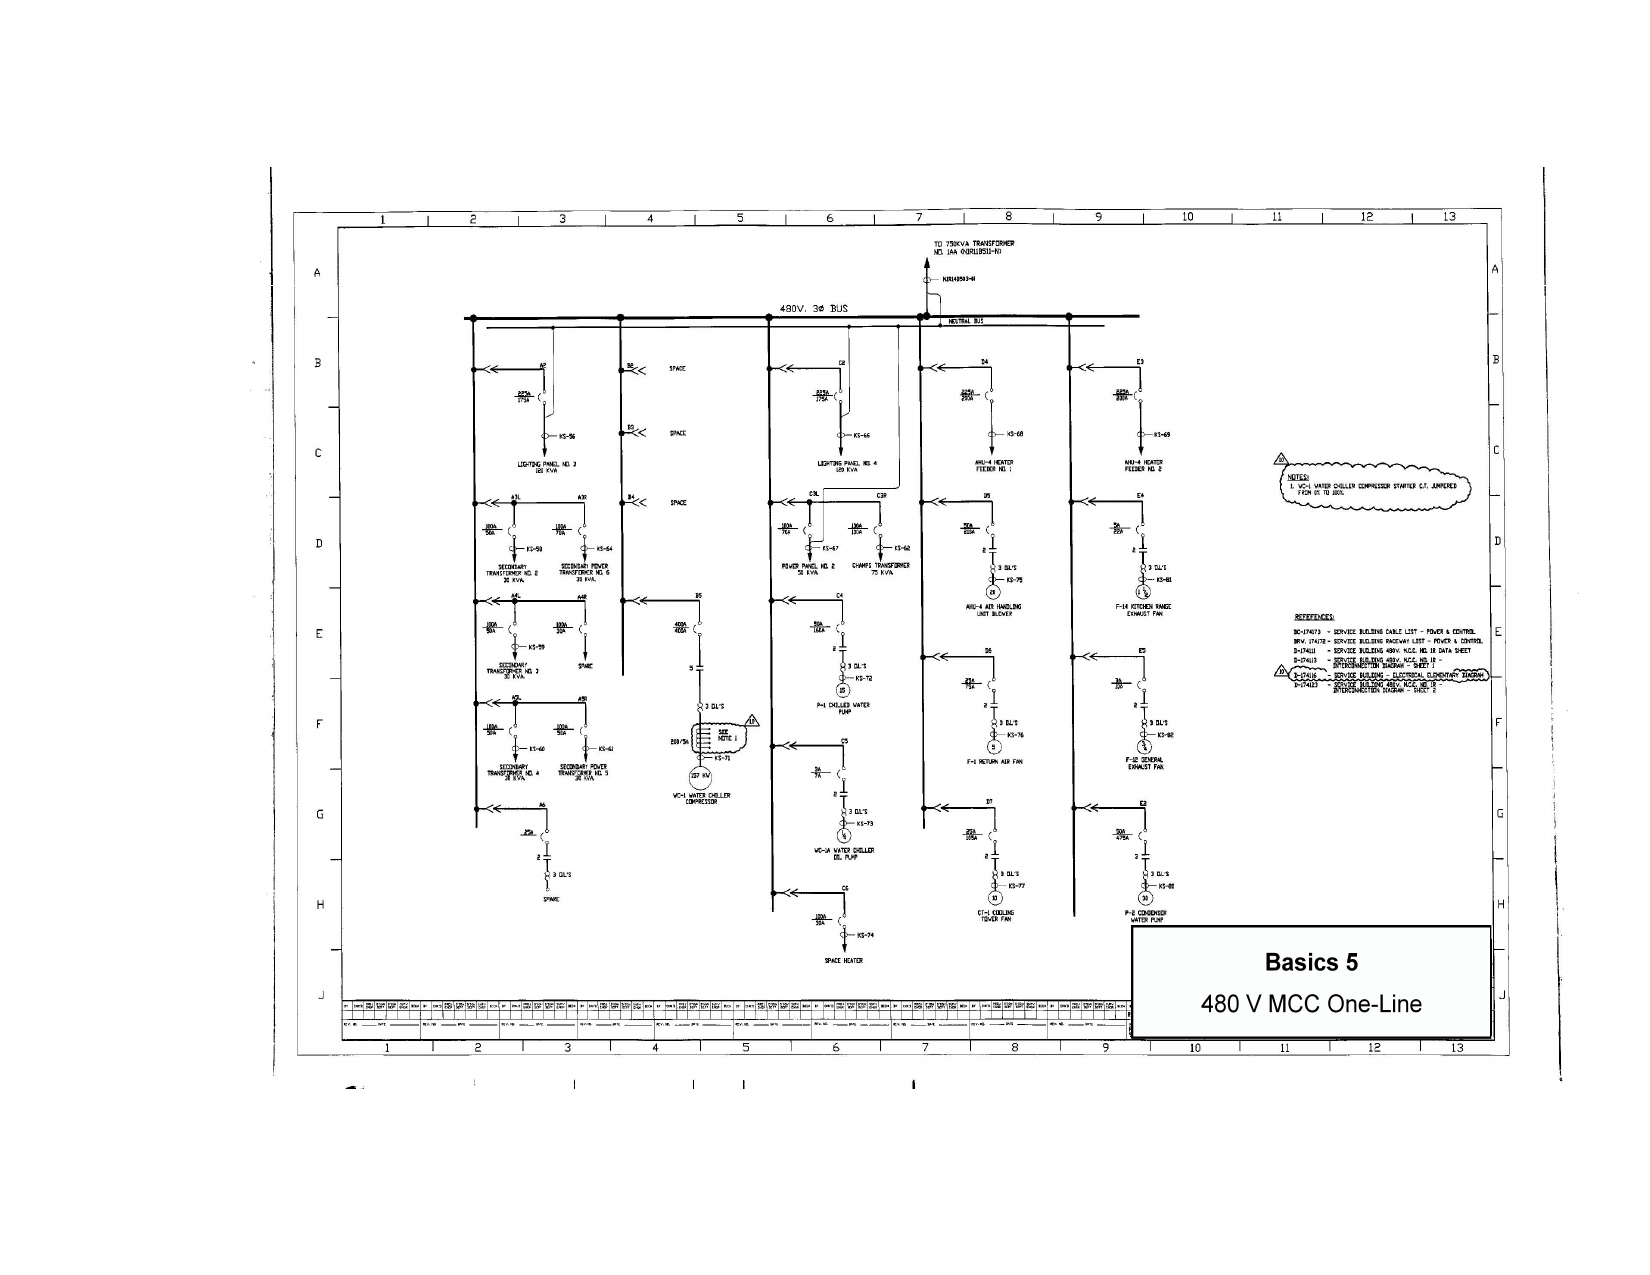circuit_breaker: (1130, 821, 1158, 846), (978, 515, 1003, 542), (979, 381, 1004, 407), (1128, 379, 1150, 408), (831, 907, 858, 930), (1131, 515, 1154, 541), (571, 517, 595, 541), (534, 381, 553, 411), (982, 671, 1005, 695), (982, 821, 1004, 846), (573, 718, 596, 741), (687, 615, 710, 638), (499, 517, 521, 541), (571, 616, 593, 640), (833, 761, 854, 785), (868, 517, 892, 538), (504, 617, 525, 640), (831, 616, 851, 639), (538, 824, 557, 848), (829, 383, 848, 407), (502, 719, 524, 739), (799, 515, 817, 539), (1133, 674, 1155, 693)
